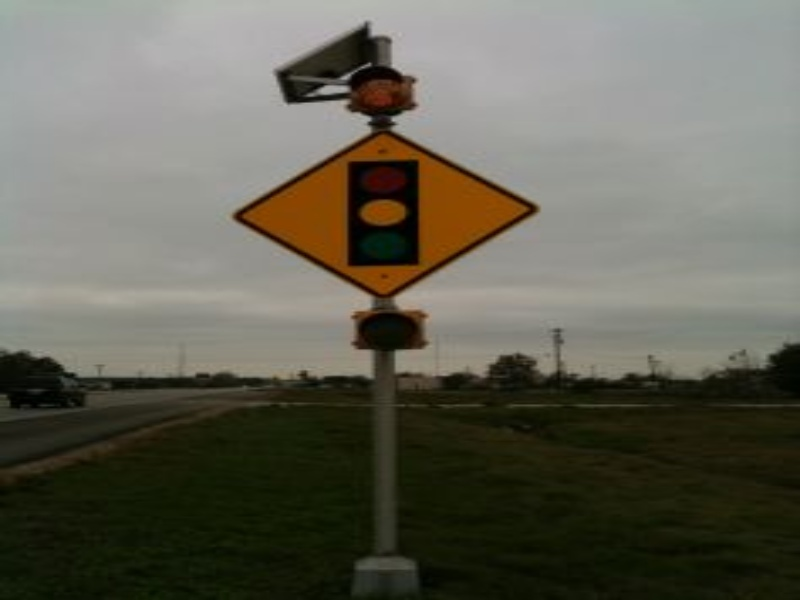traffic signal sign: (231, 128, 543, 302)
